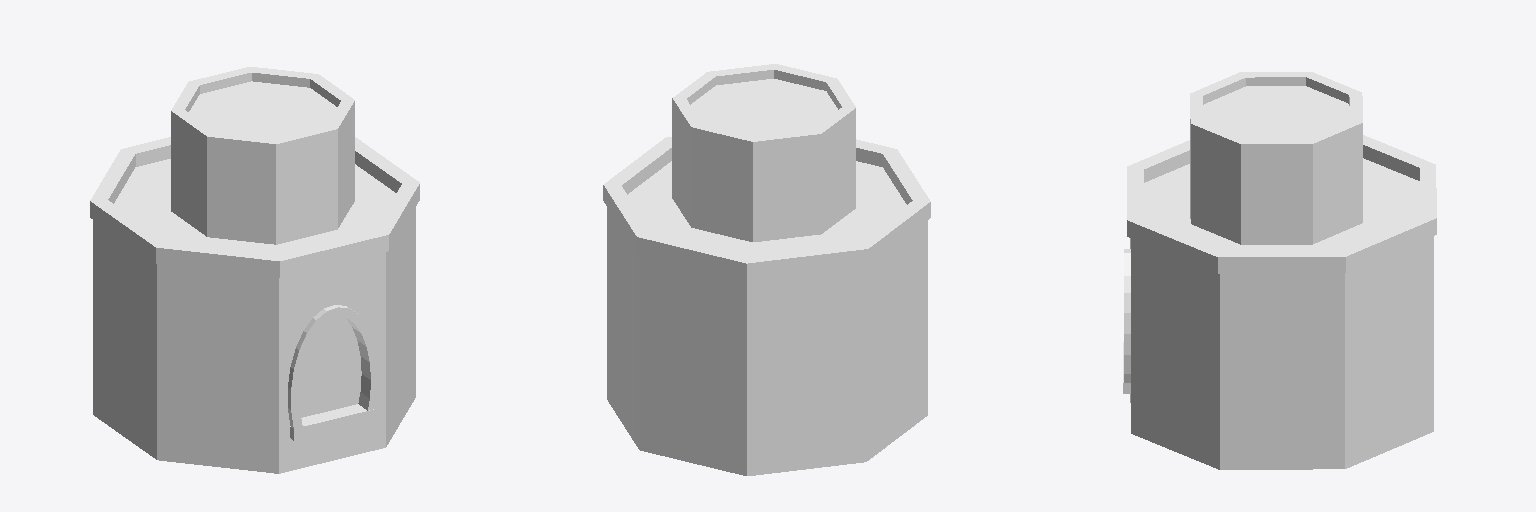
File: BlankCastle.obj
3 views of the same model, side by side, from view 1: azimuth 30°, elevation 25°; view 2: azimuth 150°, elevation 25°; view 3: azimuth 270°, elevation 25° (orthographic).
Parts seen in each view (by area): view 1: BlankCastle; view 2: BlankCastle; view 3: BlankCastle.
Part boxes in pixels (bbox=[...]): BlankCastle: bbox=[90, 67, 419, 473]; BlankCastle: bbox=[603, 64, 930, 475]; BlankCastle: bbox=[1123, 72, 1436, 469].
Bounding box in the file's own units: 11.99 × 12.95 × 12.22.